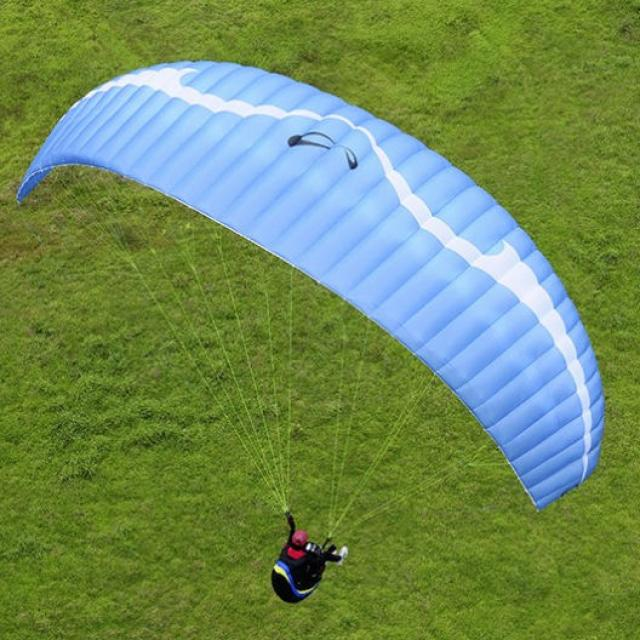paraglider: (15, 56, 606, 516)
